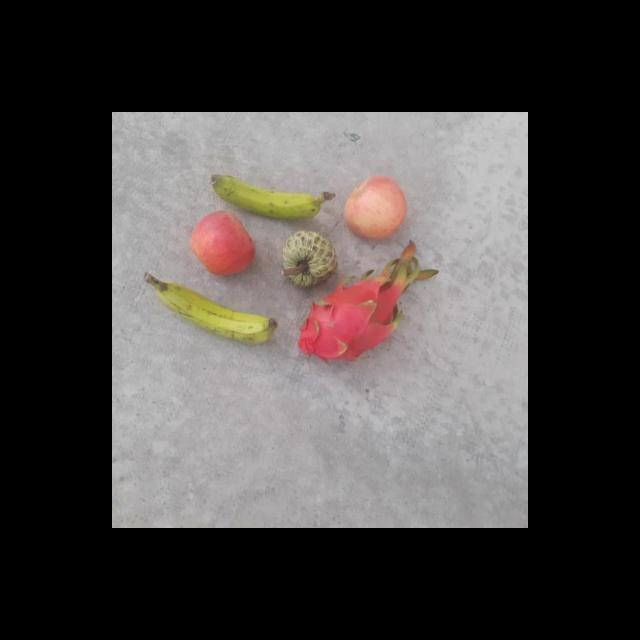Sakya fruit: (277, 230, 337, 288)
apple: (189, 210, 257, 276), (342, 175, 407, 239)
banana: (154, 271, 278, 346), (210, 167, 330, 221)
pitaya: (294, 280, 399, 366)
